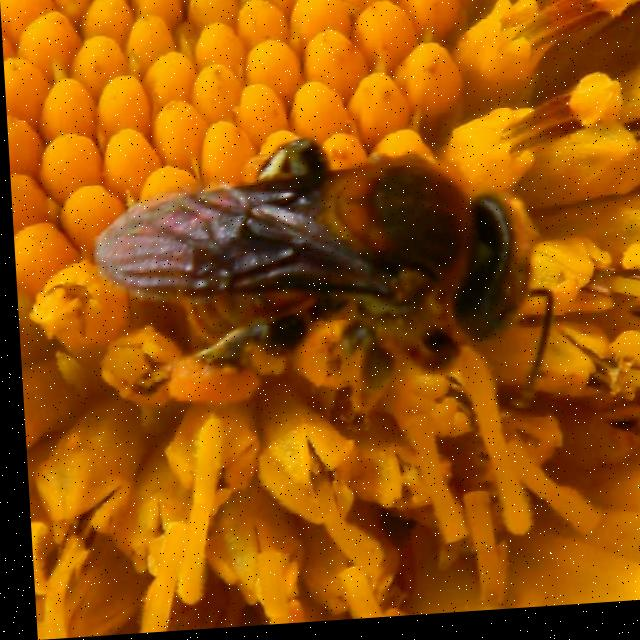Meliponula: (80, 119, 575, 443)
